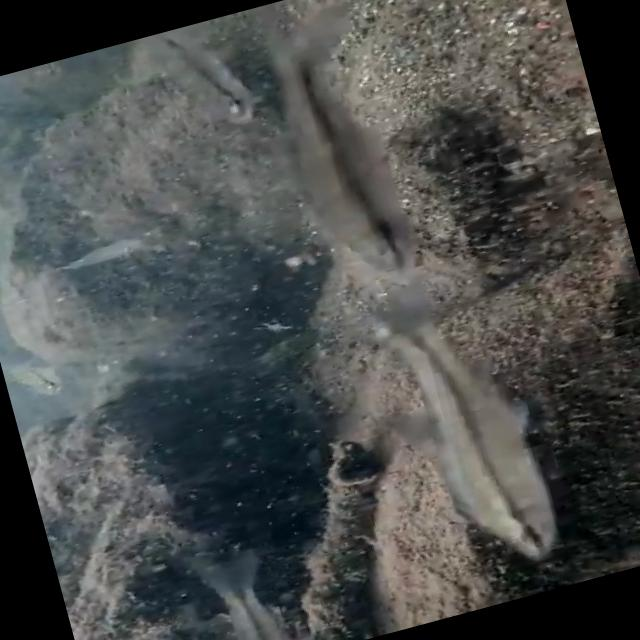Cakil Baligi: (336, 252, 588, 594), (251, 0, 459, 291)
